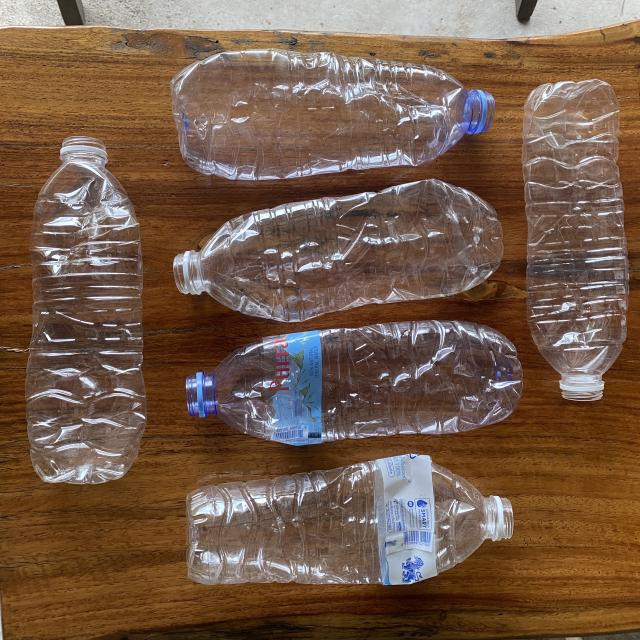plastik: (174, 179, 502, 322), (186, 455, 514, 585), (171, 49, 495, 180), (25, 136, 146, 484), (186, 321, 522, 445), (522, 80, 629, 400)
